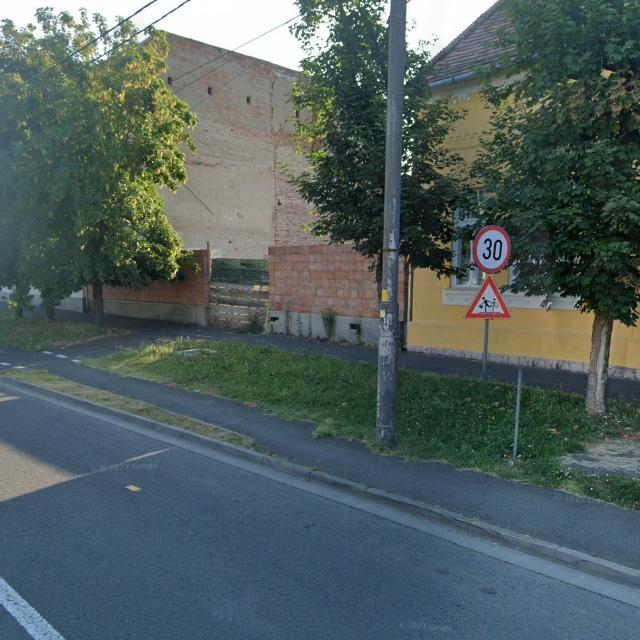forb_speed_over_30: (473, 225, 511, 274)
